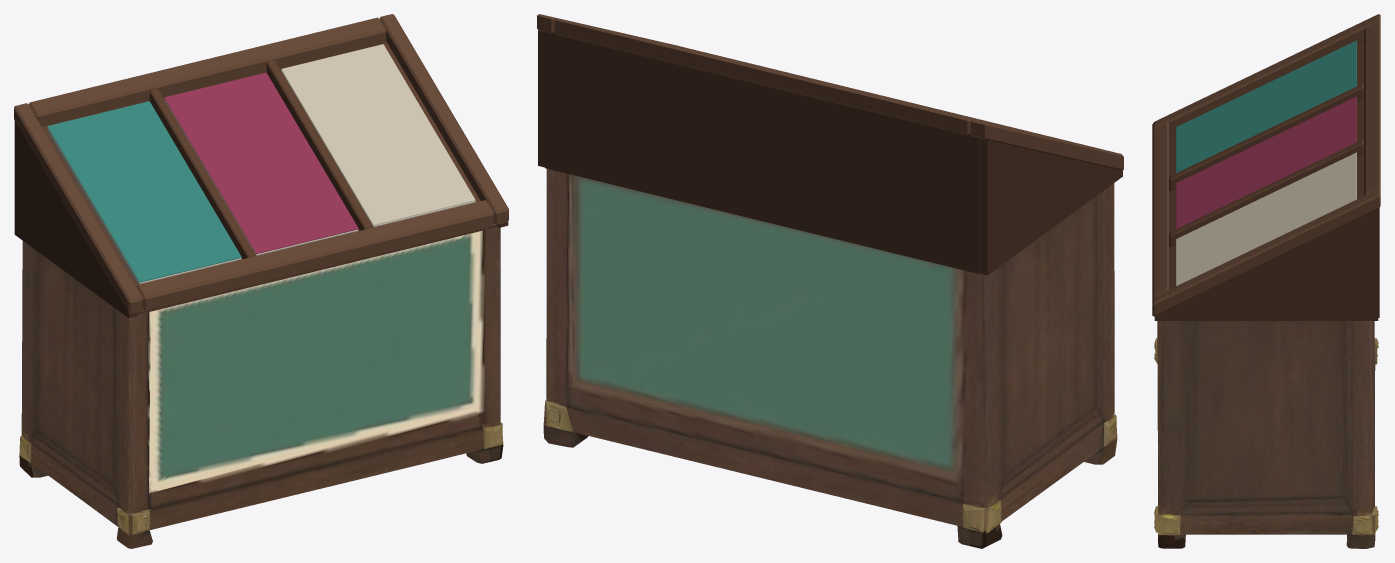
Rendered from pamphlet-stand.glb.
The picture shows the model from 3 angles, left to right: view 1: azimuth 30°, elevation 25°; view 2: azimuth 150°, elevation 25°; view 3: azimuth 270°, elevation 25°; orthographic projection. The views are drawn at different scales.
Visible parts, largest first — view 1: Mesh_0; view 2: Mesh_0; view 3: Mesh_0.
Part boxes in pixels (x1=…): Mesh_0: x1=14, y1=14, x2=508, y2=548; Mesh_0: x1=537, y1=14, x2=1123, y2=548; Mesh_0: x1=1152, y1=14, x2=1380, y2=548.
Size of the model in its own units: 1.89 by 1.72 by 1.
2 materials, 1 textured.
